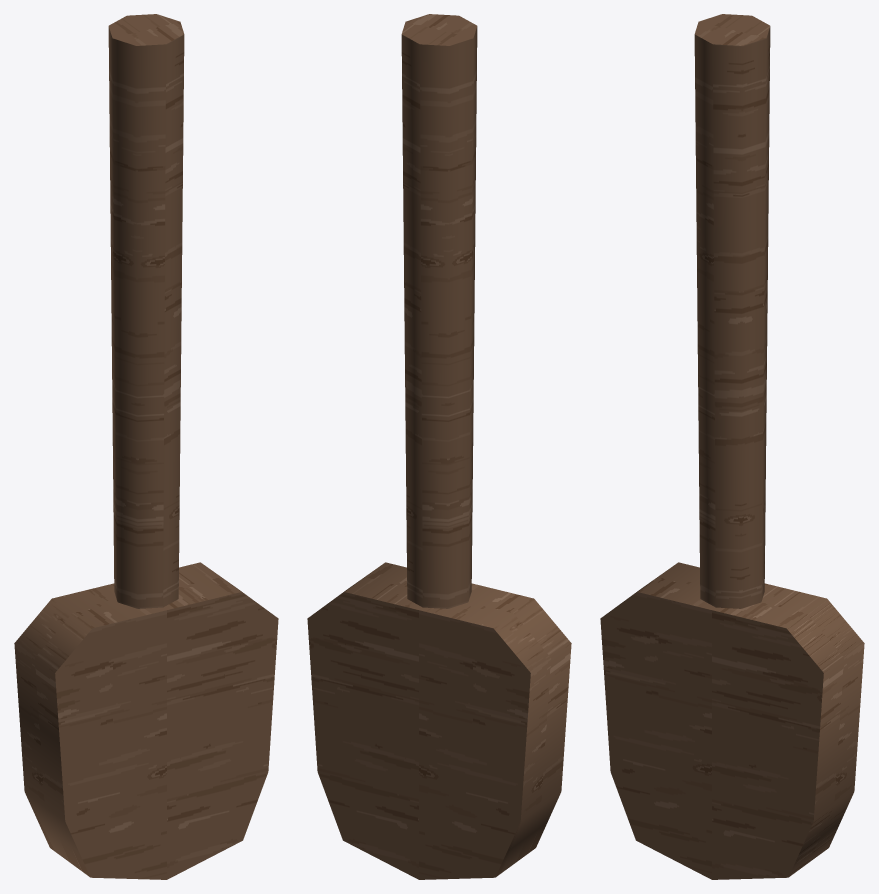
The model's file is tool-paddle.gltf.
3 renders of one model, left to right at view 1: azimuth 30°, elevation 25°; view 2: azimuth 150°, elevation 25°; view 3: azimuth 330°, elevation 25°, orthographic.
Visible parts, largest first — view 1: tool-paddle; view 2: tool-paddle; view 3: tool-paddle.
Boxes of the visible parts, x1,y1,x2,y2 form: tool-paddle: (14,14,278,879); tool-paddle: (307,14,571,879); tool-paddle: (600,14,864,879).
Size of the model in its own units: 0.6578 by 2.35 by 0.2075.
1 material, 1 textured.
